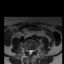CCS_normal: (29, 48, 31, 55)
LFS_normal: (33, 48, 35, 53)
LLS_normal: (31, 48, 33, 54)
RFS_normal: (26, 48, 28, 54)
RLS_normal: (28, 48, 29, 55)
